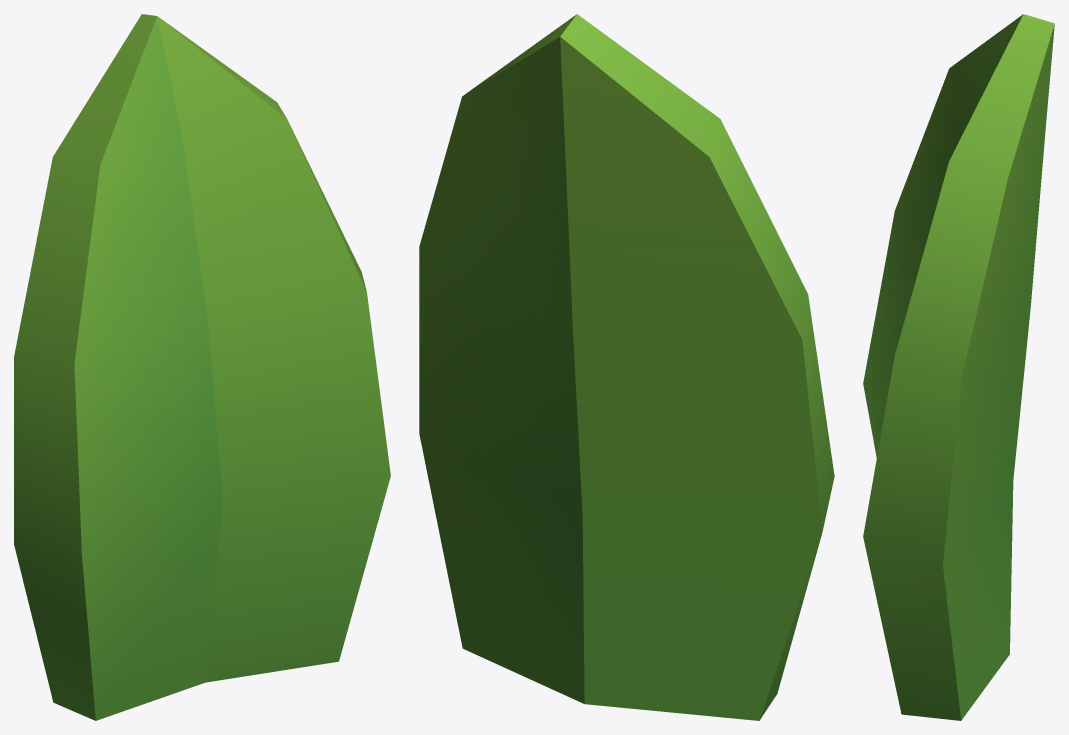
Rendered from Grass_1_A_Color1.gltf.
The picture shows the model from 3 angles, left to right: view 1: azimuth 30°, elevation 25°; view 2: azimuth 150°, elevation 25°; view 3: azimuth 270°, elevation 25°; orthographic projection. The views are drawn at different scales.
Visible parts, largest first — view 1: Grass_1_A_Color1; view 2: Grass_1_A_Color1; view 3: Grass_1_A_Color1.
Boxes of the visible parts, x1,y1,x2,y2 form: Grass_1_A_Color1: (14,14,390,720); Grass_1_A_Color1: (419,14,834,720); Grass_1_A_Color1: (863,14,1054,720).
Bounding box in the file's own units: 0.3393 × 0.5593 × 0.1518.
Materials: 1 (1 with a texture image).
